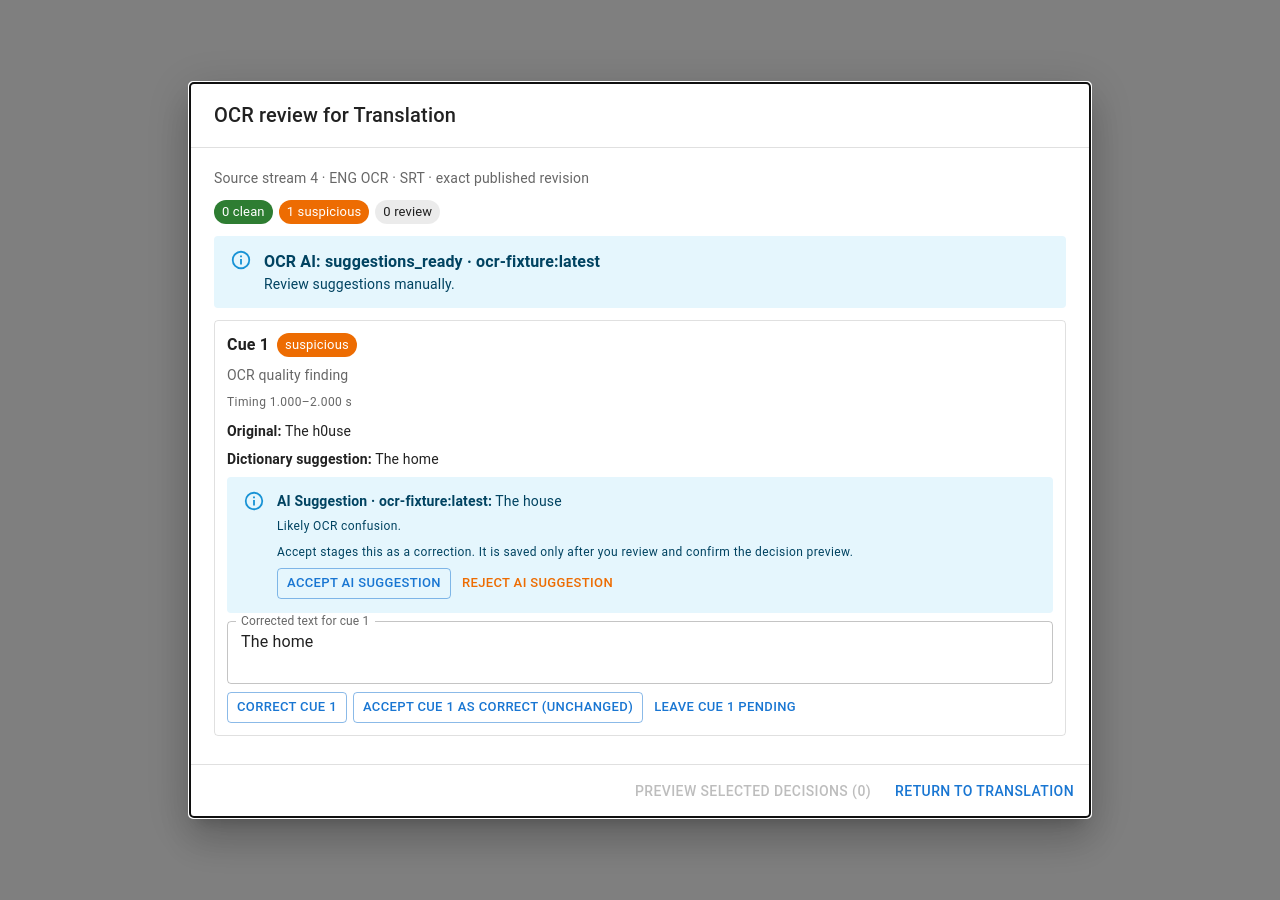
Test: SubtitleOCRReviewDialog › shows Dictionary and AI suggestions while keeping Accept and Reject human-only
Expected: the text "OCR AI: suggestions_ready · ocr-fixture:latest" is shown, [264, 250, 600, 274]
Expected: the text "Original:" is shown, [227, 422, 282, 438]
Click the button "Accept AI suggestion" at [364, 584], box [277, 568, 451, 599]
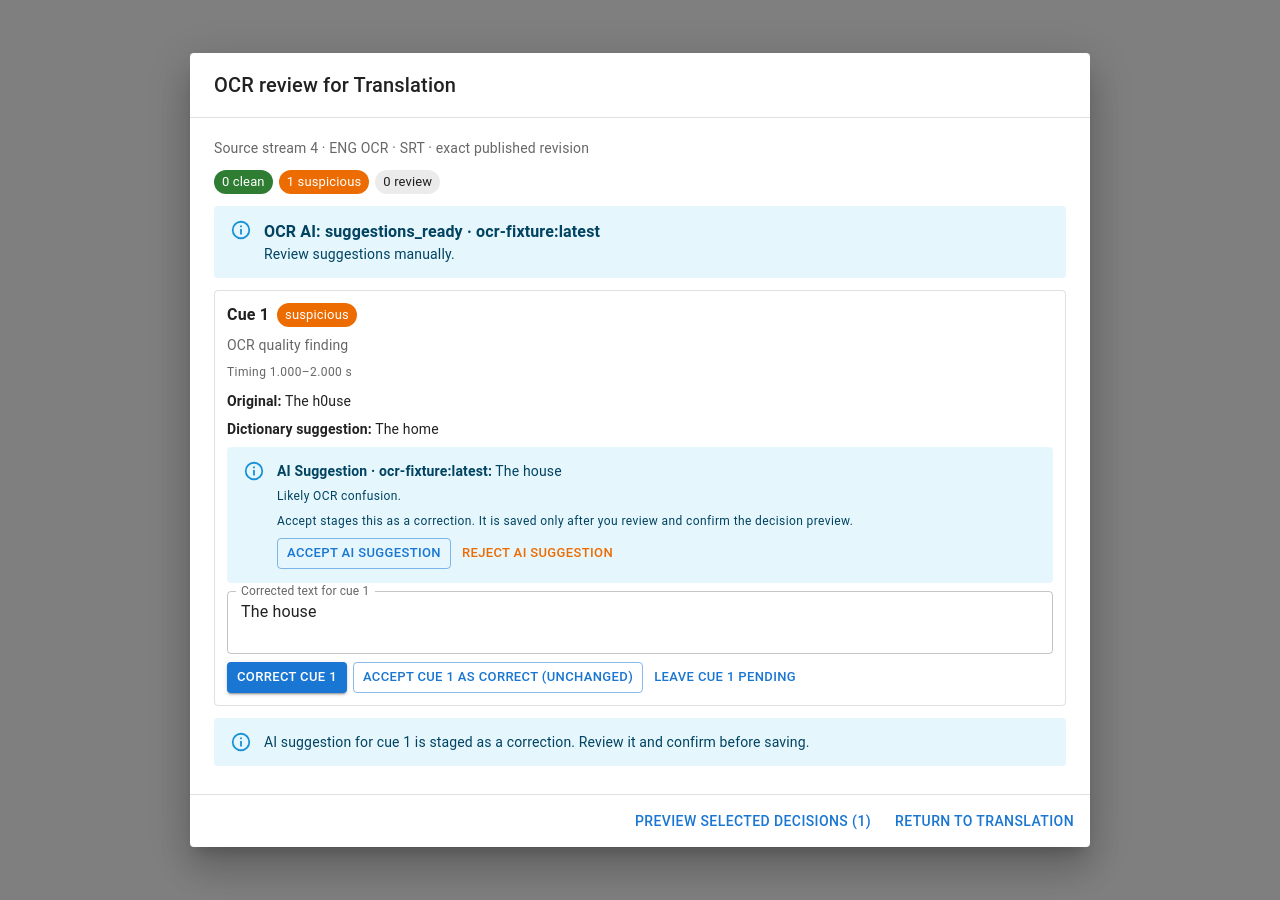
Expected: the text box labelled "Corrected text for cue 1" holds "The house", [241, 600, 1039, 646]
Click the button "Reject AI suggestion" at [537, 554], box [457, 538, 618, 569]
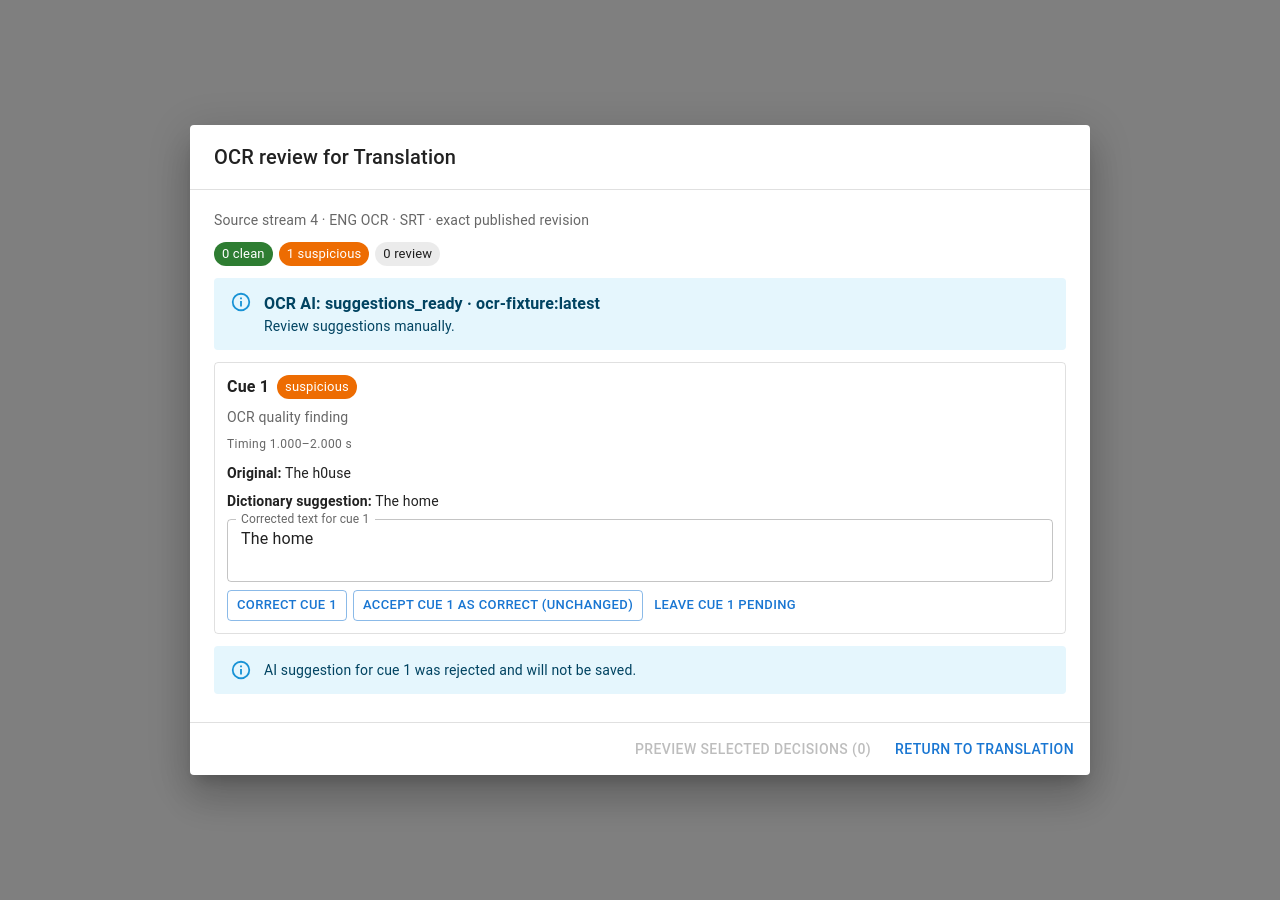
Expected: the text "AI Suggestion · ocr-fixture:latest:" is gone
Expected: the text box labelled "Corrected text for cue 1" holds "The home", [241, 527, 1039, 573]
